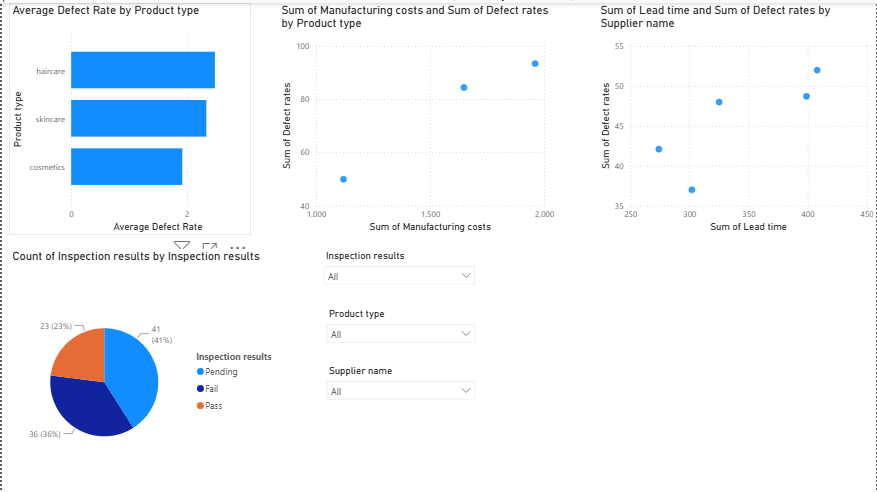

The page's visual inventory and layout, read from the dashboard file:
{"tool":"powerbi","page":{"name":"Quality Performance","canvas":[1280,720],"ordinal":2},"visuals":[{"type":"clusteredBarChart","fields":{"Category":["SupplyChain.Product type"],"Y":["SupplyChain.Average Defect Rate"]},"box":[10.2,0,354.1,339.5],"z":0},{"type":"pieChart","fields":{"Category":["SupplyChain.Inspection results"],"Y":["CountNonNull(SupplyChain.Inspection results)"]},"box":[10.2,360,403.9,360],"z":1000},{"type":"scatterChart","fields":{"Category":["SupplyChain.Product type"],"X":["Sum(SupplyChain.Manufacturing costs)"],"Y":["Sum(SupplyChain.Defect rates)"]},"box":[403.9,0,409.8,339.5],"z":2000},{"type":"scatterChart","fields":{"Category":["SupplyChain.Supplier name"],"X":["Sum(SupplyChain.Lead time)"],"Y":["Sum(SupplyChain.Defect rates)"]},"box":[870.7,0,409.8,339.5],"z":3000},{"type":"textbox","box":[414,360,400,360],"z":4000},{"type":"slicer","fields":{"Values":["SupplyChain.Inspection results"]},"box":[460.6,357.7,241.3,82.7],"z":5000},{"type":"slicer","fields":{"Values":["SupplyChain.Product type"]},"box":[465.4,442.3,236.5,74],"z":6000},{"type":"slicer","fields":{"Values":["SupplyChain.Supplier name"]},"box":[465.4,525,236.5,79.8],"z":7000}]}

Visuals, with their boxes in screenshot pixels (x1, y1, x2, y2), scaled from the page's 1280x720 canvas onto the 877x492 screenshot:
clusteredBarChart - SupplyChain.Product type x SupplyChain.Average Defect Rate: (7, 0, 250, 232)
pieChart - SupplyChain.Inspection results x CountNonNull(SupplyChain.Inspection results): (7, 246, 284, 491)
scatterChart - SupplyChain.Product type x Sum(SupplyChain.Manufacturing costs): (277, 0, 558, 232)
scatterChart - SupplyChain.Supplier name x Sum(SupplyChain.Lead time): (597, 0, 876, 232)
textbox: (284, 246, 558, 491)
slicer - SupplyChain.Inspection results: (316, 244, 481, 301)
slicer - SupplyChain.Product type: (319, 302, 481, 353)
slicer - SupplyChain.Supplier name: (319, 359, 481, 413)
